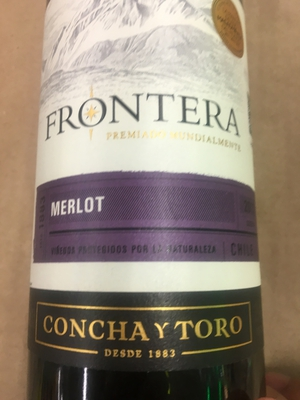frontera merlot: (28, 6, 266, 389)
